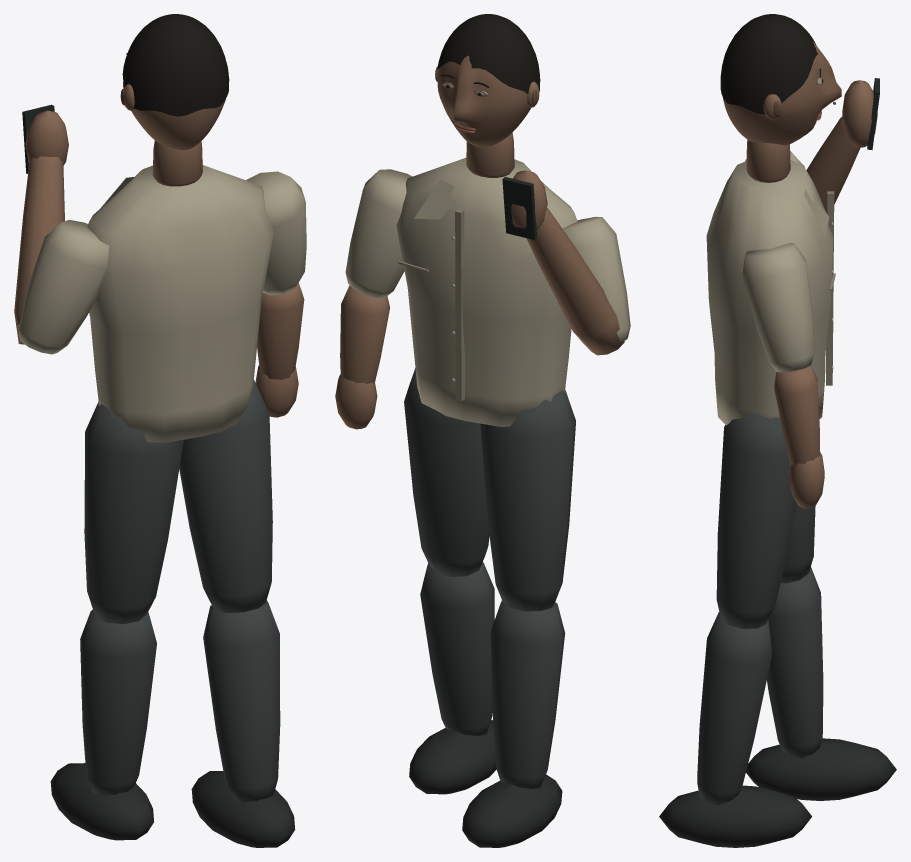
File: passenger_phone.glb
3 views of the same model, side by side, from view 1: azimuth 30°, elevation 25°; view 2: azimuth 150°, elevation 25°; view 3: azimuth 270°, elevation 25° (orthographic). The views are drawn at different scales.
Visible parts, largest first — view 1: passenger_phone; view 2: passenger_phone; view 3: passenger_phone.
Part boxes in pixels (x1=…): passenger_phone: x1=14, y1=14, x2=306, y2=847; passenger_phone: x1=335, y1=14, x2=630, y2=847; passenger_phone: x1=659, y1=14, x2=896, y2=847.
Bounding box in the file's own units: 0.6189 × 1.67 × 0.45.
